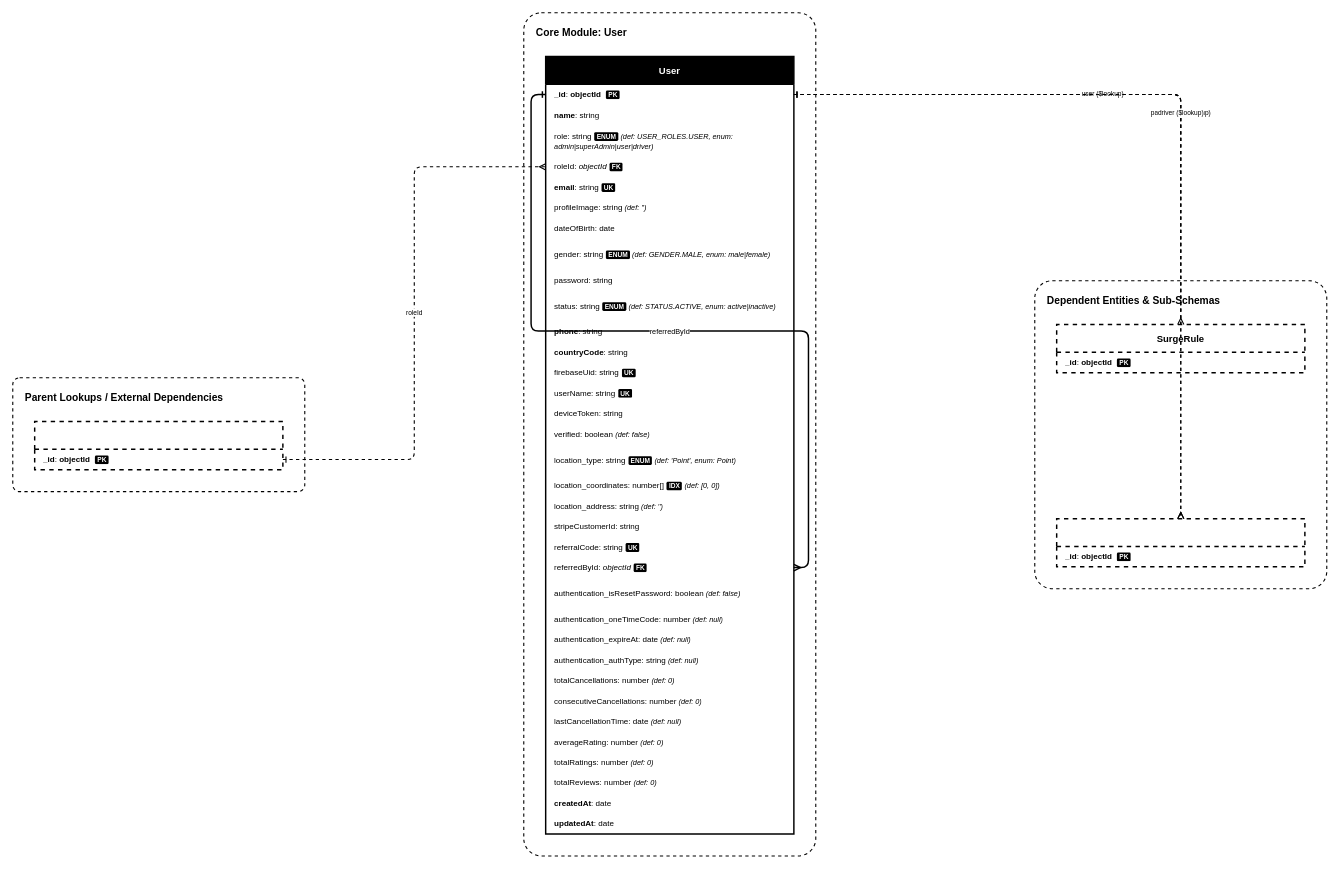
This 1340x869 diagram has some shape labels left out. The shapes that lost their labels are listed below. From the top down, each one's box as (x1, y1, x2, y2) in pixels, then its label:
(34, 420, 283, 470): Role
(1056, 518, 1305, 567): TripReport
